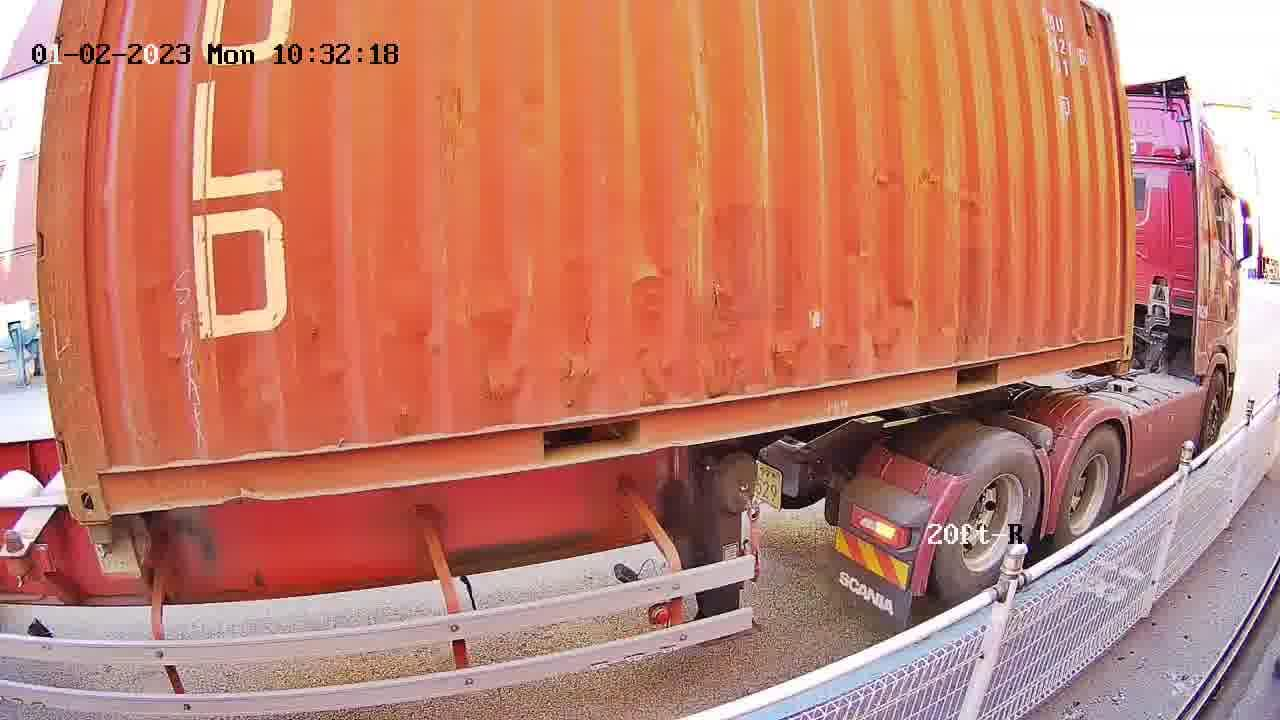Cone: (75, 520, 118, 566)
Hole_L: (57, 444, 155, 523)
Tire: (936, 436, 1044, 606), (1056, 424, 1124, 554)
